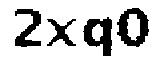0: (114, 1, 154, 49)
2: (13, 5, 43, 50)
q: (85, 13, 115, 59)
x: (45, 15, 79, 49)
